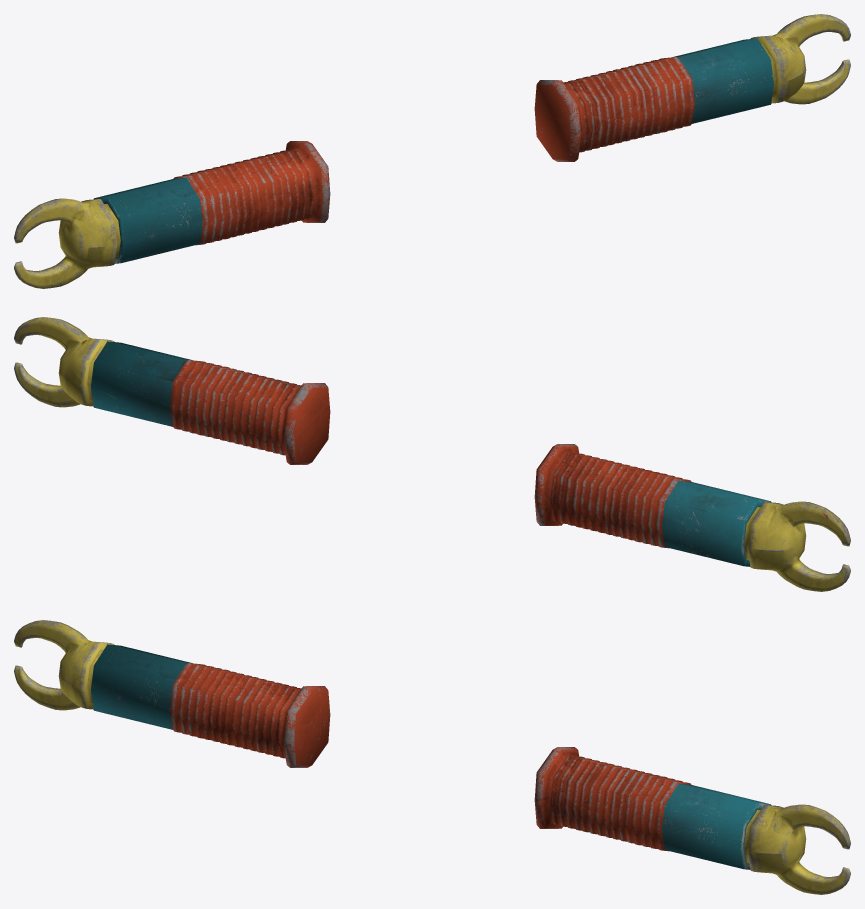
Rendered from Hand.fbx.
The picture shows the model from 3 angles, top to bottom: view 1: azimuth 30°, elevation 25°; view 2: azimuth 150°, elevation 25°; view 3: azimuth 330°, elevation 25°; orthographic projection.
Visible parts, largest first — view 1: Hand; view 2: Hand; view 3: Hand.
Part boxes in pixels (<box>): Hand: <box>14,14,850,288</box>; Hand: <box>14,317,850,591</box>; Hand: <box>14,620,850,894</box>.
Size of the model in its own units: 215 by 21.24 by 17.82.
1 material, 1 textured.
